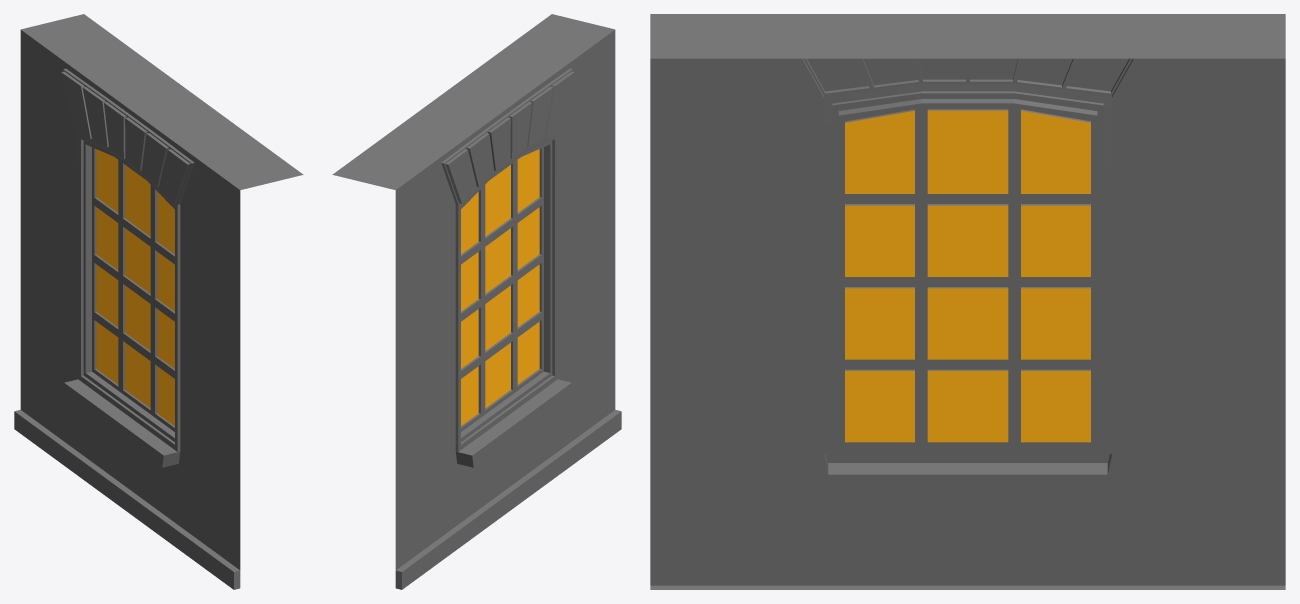
Rendered from O_Façade_Fenêtre_Usine_Fronton.fbx.
The picture shows the model from 3 angles, left to right: view 1: azimuth 30°, elevation 25°; view 2: azimuth 150°, elevation 25°; view 3: azimuth 270°, elevation 25°; orthographic projection. The views are drawn at different scales.
Parts seen in each view (by area): view 1: O_Façade_Fenêtre_Usine_Fronton; view 2: O_Façade_Fenêtre_Usine_Fronton; view 3: O_Façade_Fenêtre_Usine_Fronton.
Boxes of the visible parts, x1,y1,x2,y2 form: O_Façade_Fenêtre_Usine_Fronton: (14, 14, 303, 589); O_Façade_Fenêtre_Usine_Fronton: (332, 14, 621, 589); O_Façade_Fenêtre_Usine_Fronton: (650, 14, 1285, 589).
Bounding box in the file's own units: 0.63 × 3 × 3.
